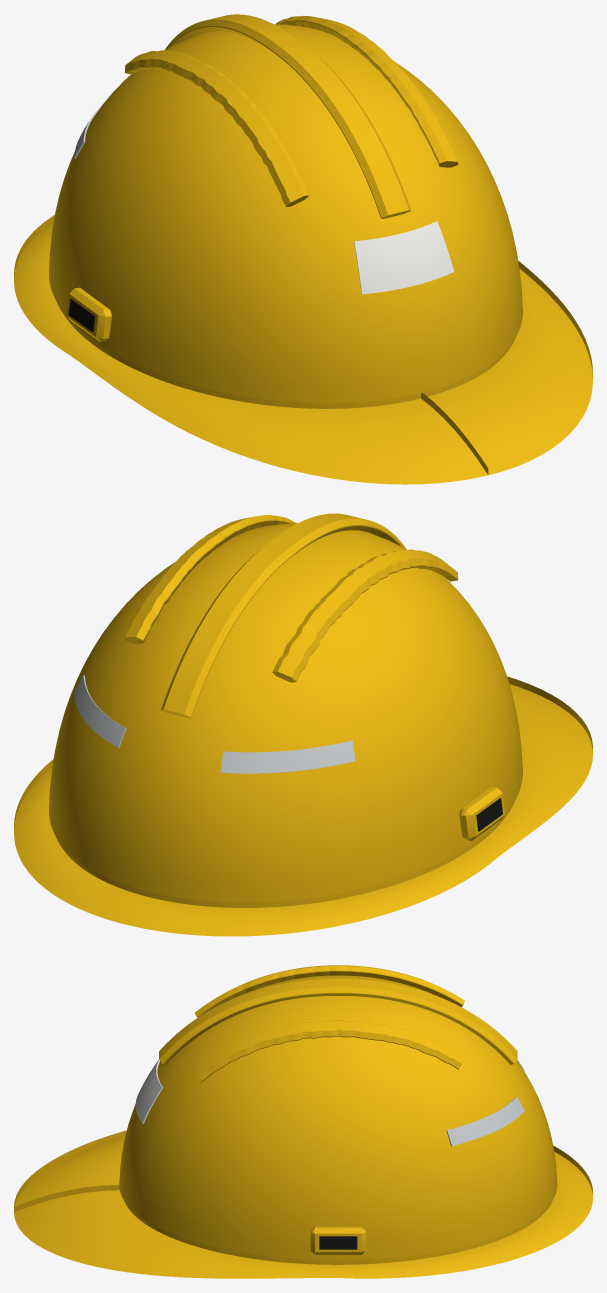
Rendered from capacete_obra.glb.
The picture shows the model from 3 angles, top to bottom: view 1: azimuth 30°, elevation 25°; view 2: azimuth 150°, elevation 25°; view 3: azimuth 270°, elevation 25°; orthographic projection. The views are drawn at different scales.
Parts seen in each view (by area): view 1: capacete_obra_abs_amarelo, capacete_obra_adesivo_branco; view 2: capacete_obra_abs_amarelo, capacete_obra_refletivo; view 3: capacete_obra_abs_amarelo, capacete_obra_refletivo, capacete_obra_adesivo_branco, capacete_obra_pc_preto.
Boxes of the visible parts, x1,y1,x2,y2 form: capacete_obra_abs_amarelo: [14, 14, 592, 484]; capacete_obra_adesivo_branco: [354, 221, 454, 294]; capacete_obra_abs_amarelo: [14, 513, 592, 936]; capacete_obra_refletivo: [74, 675, 355, 773]; capacete_obra_abs_amarelo: [14, 965, 592, 1278]; capacete_obra_refletivo: [446, 1060, 524, 1146]; capacete_obra_adesivo_branco: [135, 1060, 163, 1123]; capacete_obra_pc_preto: [319, 1236, 357, 1249].
Bounding box in the file's own units: 0.2277 × 0.1505 × 0.3328.
